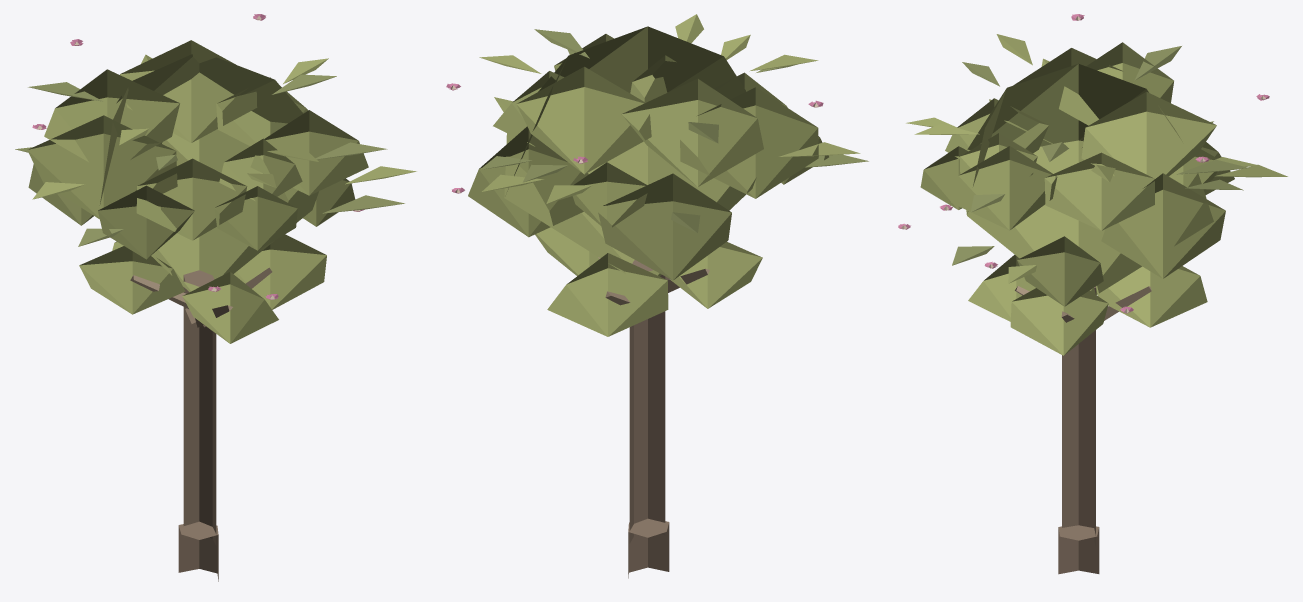
The model's file is shu.longnao@flowering__autumn.glb.
3 views of the same model, side by side, from view 1: azimuth 30°, elevation 25°; view 2: azimuth 150°, elevation 25°; view 3: azimuth 270°, elevation 25° (orthographic). The views are drawn at different scales.
Visible parts, largest first — view 1: shu.longnao@flowering__autumn; view 2: shu.longnao@flowering__autumn; view 3: shu.longnao@flowering__autumn.
Boxes of the visible parts, bbox=[...] form: shu.longnao@flowering__autumn: bbox=[15, 14, 416, 581]; shu.longnao@flowering__autumn: bbox=[446, 14, 868, 578]; shu.longnao@flowering__autumn: bbox=[898, 14, 1287, 574].
Bounding box in the file's own units: 21.86 × 29.23 × 20.37.
